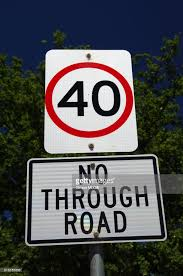sp40: (43, 58, 137, 135)
